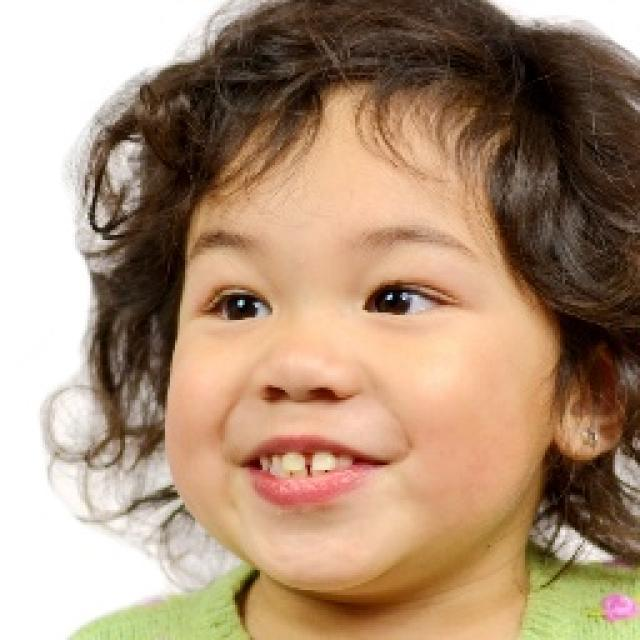earlobe: (552, 411, 602, 462)
eye: (362, 278, 449, 320), (201, 284, 273, 323)
nose: (246, 379, 358, 439)
wholeear: (553, 336, 629, 461)
